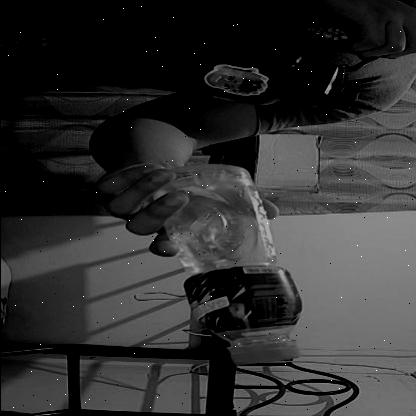Plastic Bottle: (146, 158, 320, 381)
